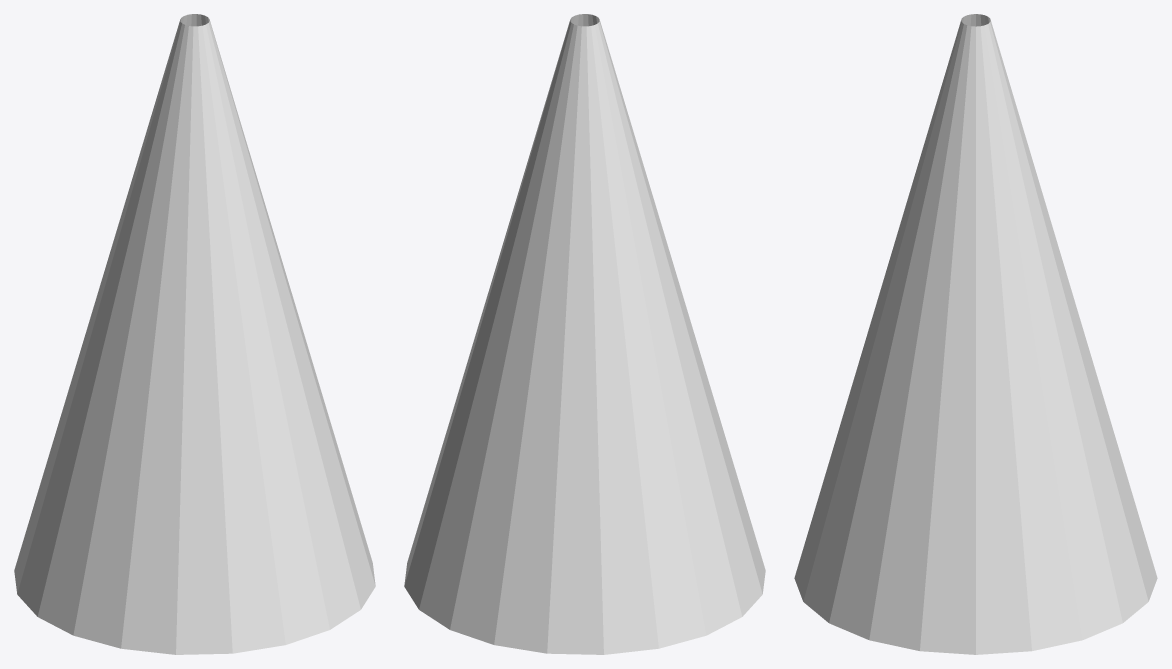
The model's file is volumetric light 1.fbx.
3 renders of one model, left to right at view 1: azimuth 30°, elevation 25°; view 2: azimuth 150°, elevation 25°; view 3: azimuth 270°, elevation 25°, orthographic.
Parts seen in each view (by area): view 1: Cone; view 2: Cone; view 3: Cone.
Boxes of the visible parts, box(x1,y1,x2,y2) form: Cone: box(14, 20, 375, 654); Cone: box(404, 20, 765, 654); Cone: box(794, 20, 1157, 654).
Bounding box in the file's own units: 118 × 200 × 118.
